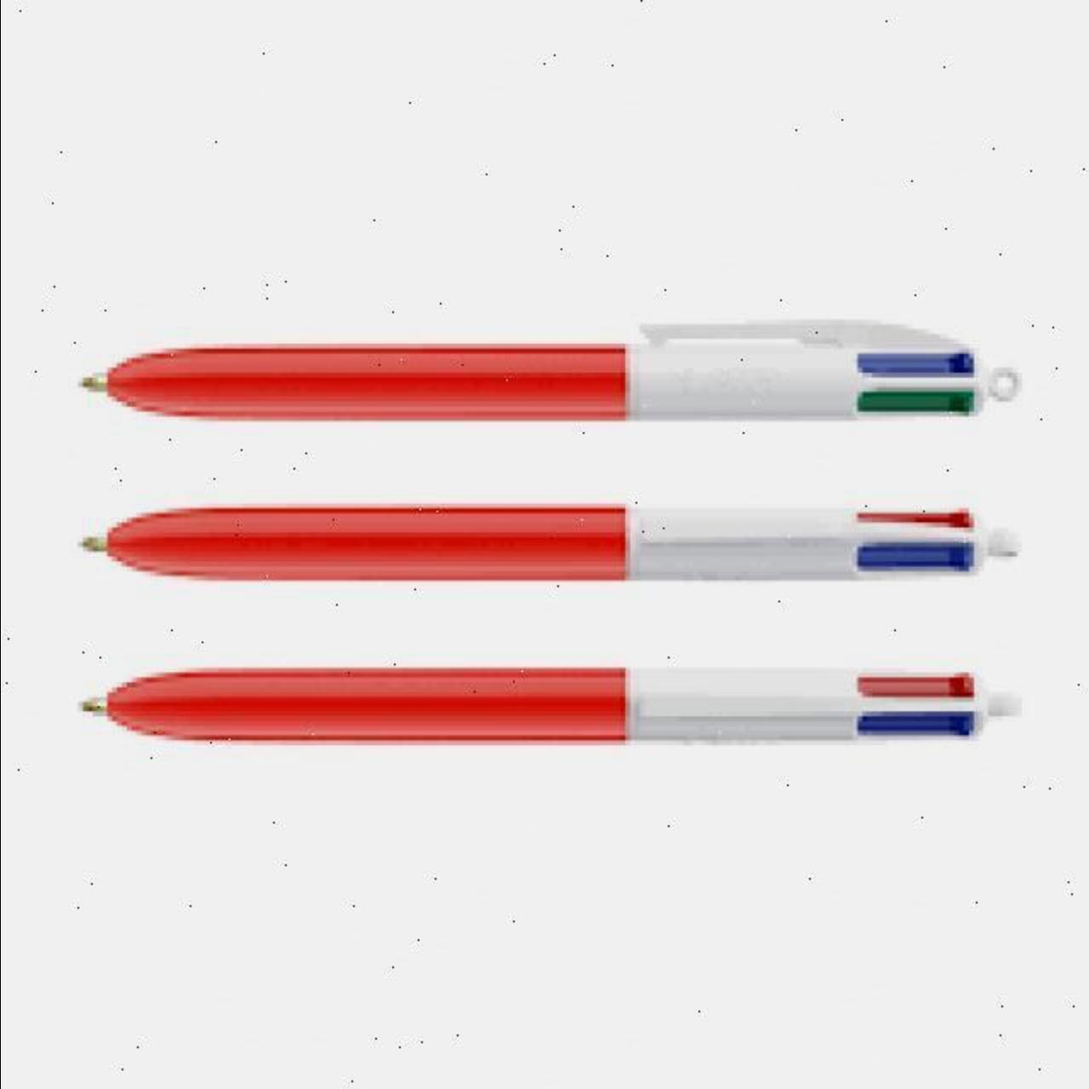pen: (82, 320, 1019, 420), (82, 505, 1019, 580), (83, 667, 1018, 742), (83, 505, 1018, 580), (82, 669, 1016, 742)
